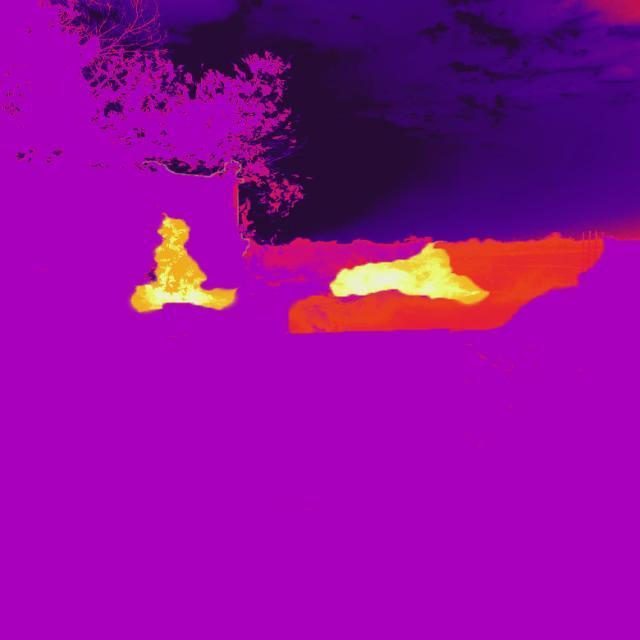fire: (123, 208, 240, 328), (331, 239, 489, 312)
